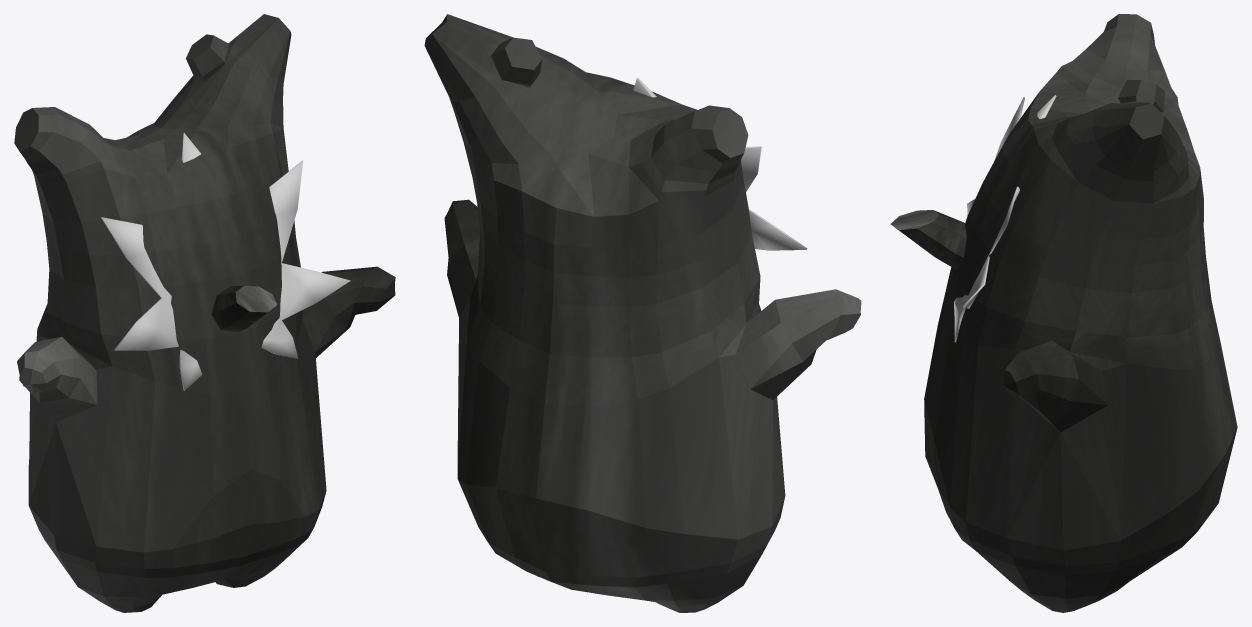
The model's file is frame_0011.obj.
3 views of the same model, side by side, from view 1: azimuth 30°, elevation 25°; view 2: azimuth 150°, elevation 25°; view 3: azimuth 270°, elevation 25° (orthographic). The views are drawn at different scales.
Visible parts, largest first — view 1: korok, leaf, nose; view 2: korok, leaf; view 3: korok, nose, leaf.
Boxes of the visible parts, x1=… form: korok: x1=14, y1=14, x2=395, y2=612; leaf: x1=101, y1=132, x2=350, y2=390; nose: x1=211, y1=286, x2=276, y2=331; korok: x1=424, y1=14, x2=861, y2=612; leaf: x1=633, y1=77, x2=807, y2=250; korok: x1=924, y1=14, x2=1237, y2=612; nose: x1=890, y1=210, x2=966, y2=269; leaf: x1=953, y1=95, x2=1056, y2=342.
Size of the model in its own units: 1.66 by 2.21 by 1.29.
